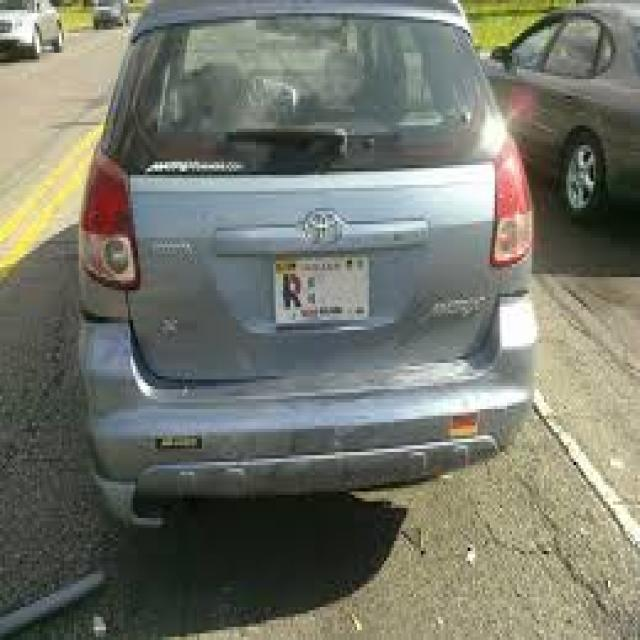minor: (89, 384, 572, 544)
